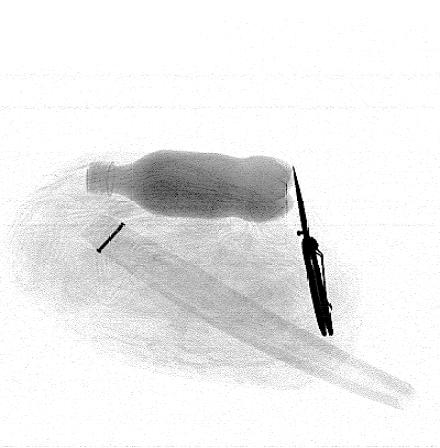Knife: (292, 163, 334, 338)
